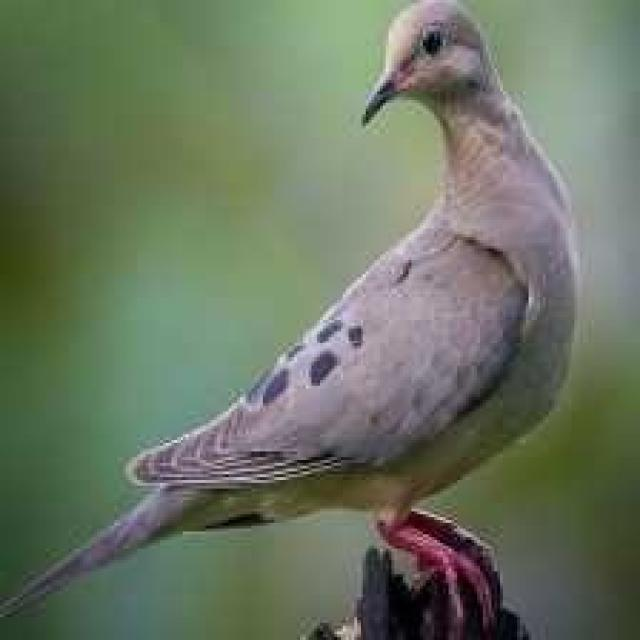bird: (13, 4, 581, 631)
